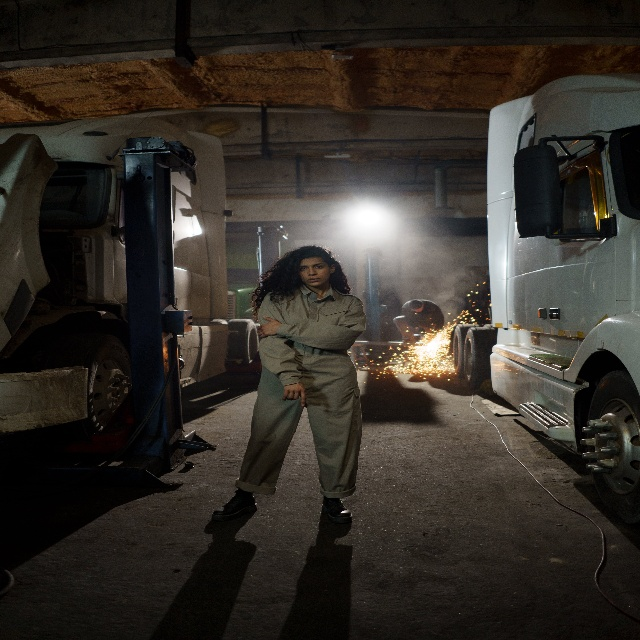Sin_guantes: (282, 378, 307, 409), (256, 312, 280, 340)
